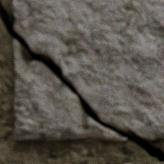broken_brick: (14, 0, 163, 139), (14, 40, 125, 140)
crack: (0, 1, 163, 163)
